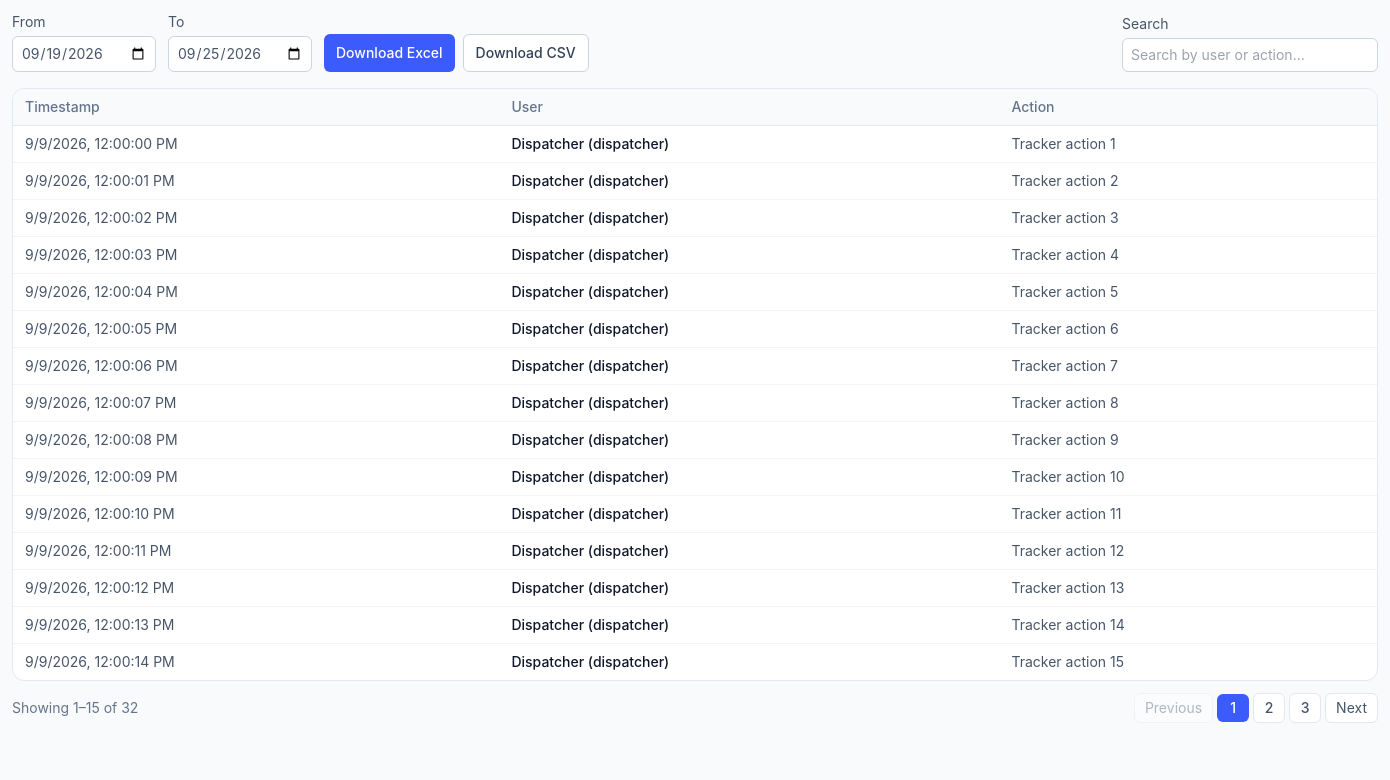
Test: Tracker Log shows 15 records per numbered page and resets pagination for search
Expected: the text "Tracker action 1" is shown, [1000, 126, 1377, 162]
Expected: the text "Tracker action 15" is shown, [1000, 644, 1377, 680]
Click the button "2".
click(1269, 708)  # box [1253, 693, 1285, 723]
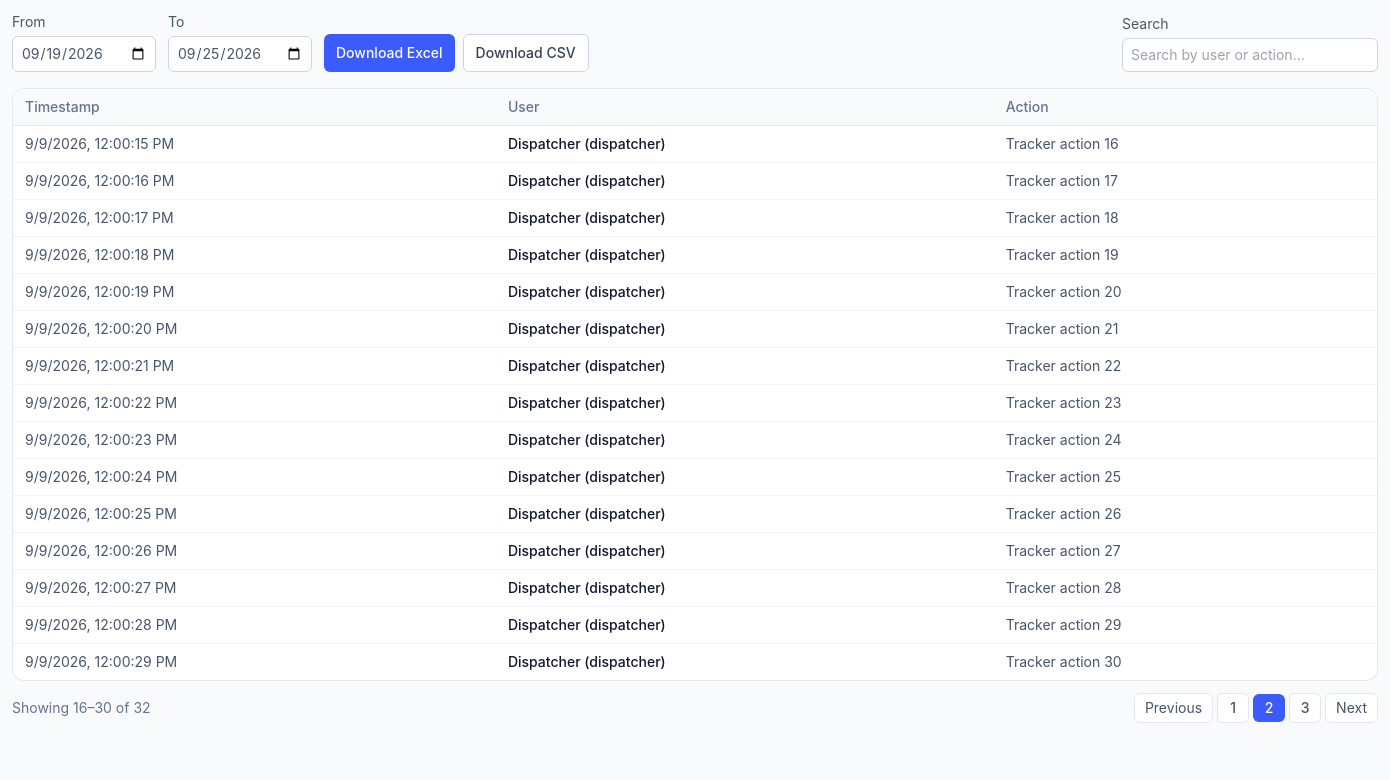
Expected: the text "Tracker action 16" is shown, [994, 126, 1377, 162]
Expected: the text "Tracker action 30" is shown, [994, 644, 1377, 680]
Type "Tracker action 32" into the field with placeholder "Search by user or action…".
click(1250, 55); type("Tracker action 32")  # box [1122, 38, 1378, 72]
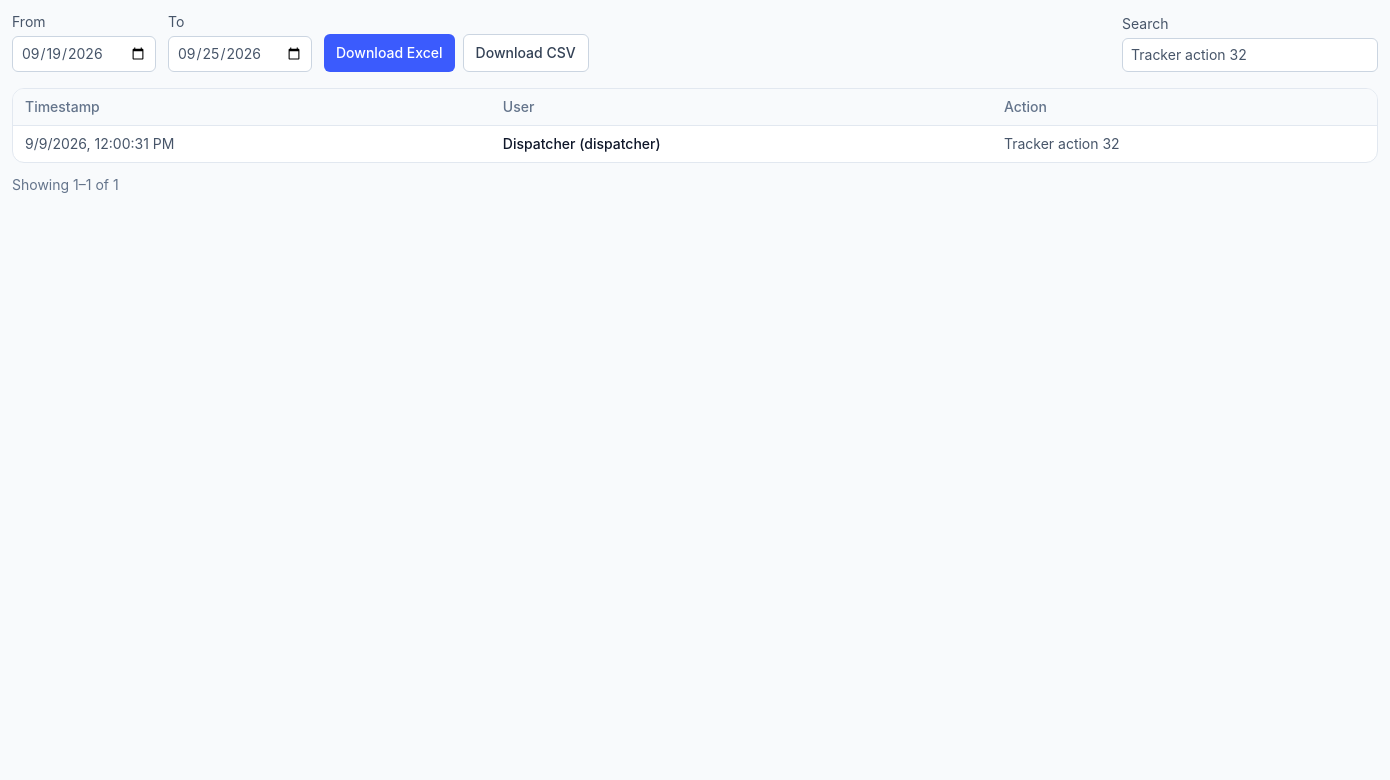
Expected: the text "Tracker action 32" is shown, [992, 126, 1377, 162]
